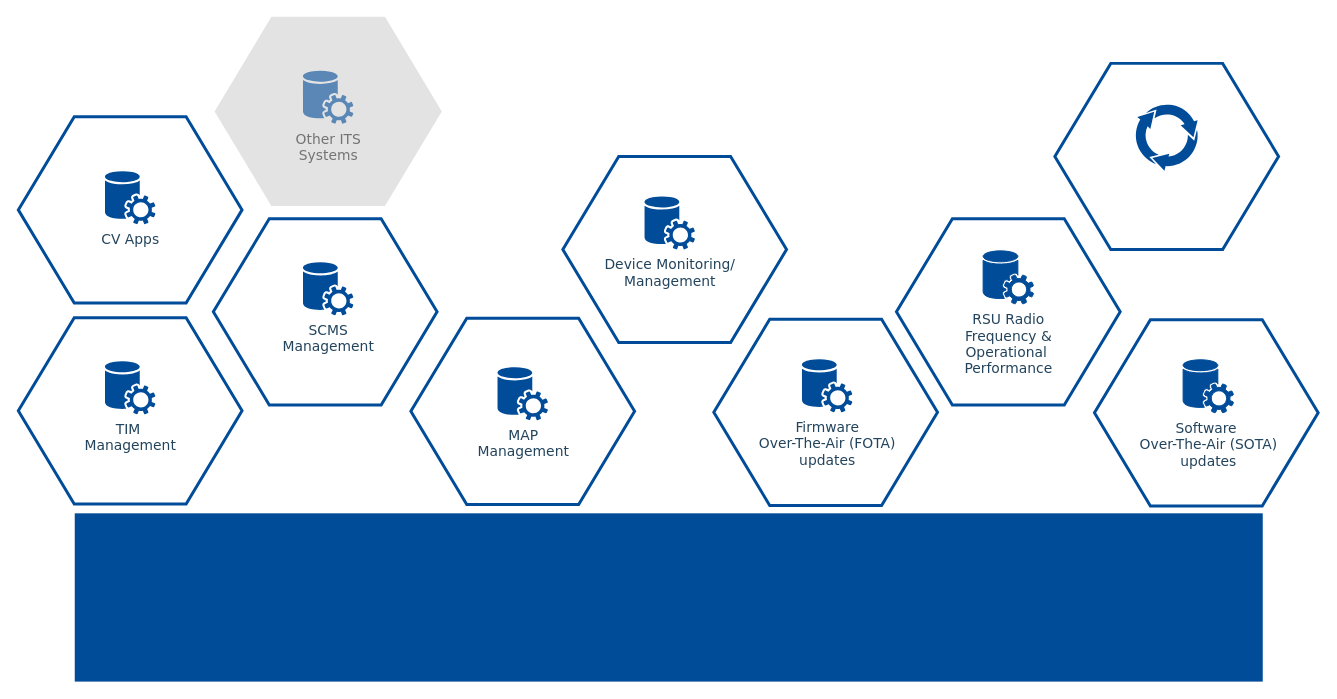
Image size: 1337x699. Some labels were removed from this diagram. Here are the shapes that lost their labels. From the top down, the centre of each, then its label:
At (x=1166, y=136): "DataBroker Ecosystem".
At (x=668, y=597): "TRAFFIC MANAGEMENT CENTER ( Operations and Maintenance)".
